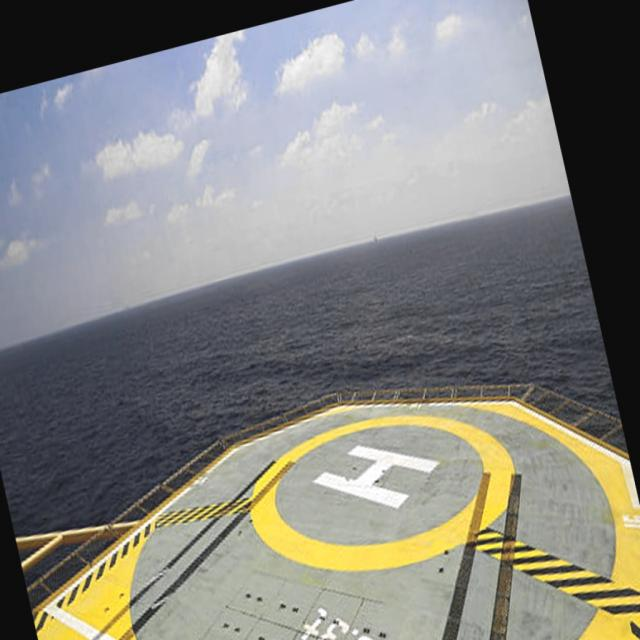helipad: (243, 410, 521, 576)
